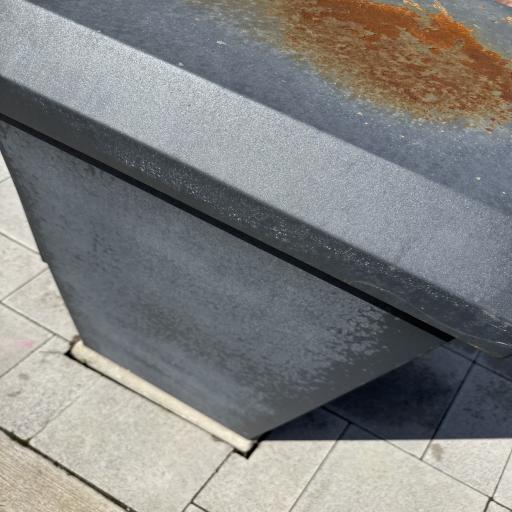Electrical Box: (0, 1, 512, 439)
